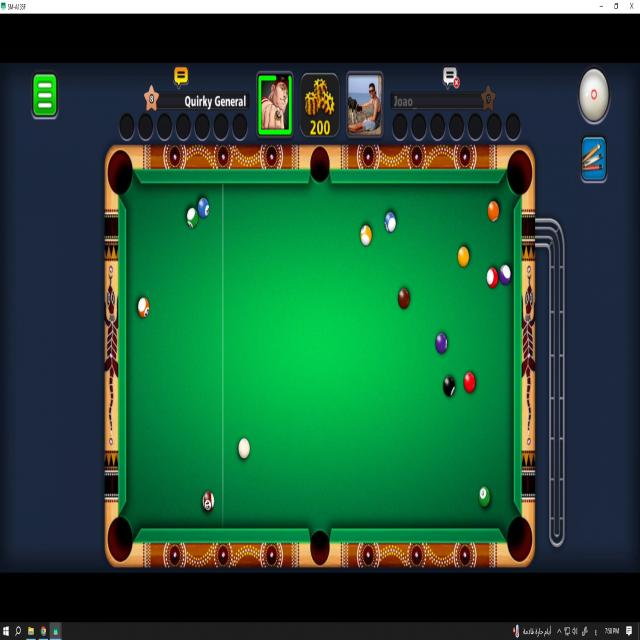object_ball: (464, 372, 476, 393), (499, 265, 511, 285), (436, 333, 447, 354), (398, 288, 409, 309), (443, 376, 454, 397), (361, 225, 372, 245), (198, 198, 209, 218), (203, 491, 214, 511), (187, 208, 198, 228), (487, 268, 498, 288), (138, 297, 149, 317), (488, 201, 499, 221), (385, 212, 396, 232), (458, 247, 469, 267), (479, 487, 489, 507)
white_cue_ball: (238, 438, 249, 459)
